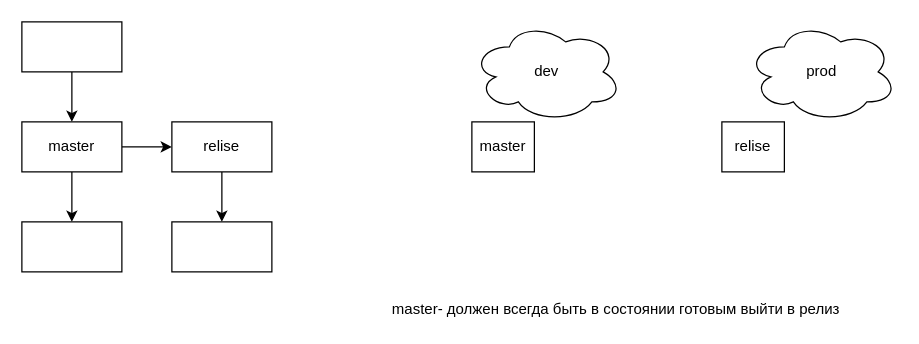
This 919x344 diagram has some shape labels left out. The shapes that lost their labels are listed below. From the top down, each one's centre as x and y in pixels, then its label:
point (71, 46): Git
point (71, 246): continue
point (221, 246): hotFix
